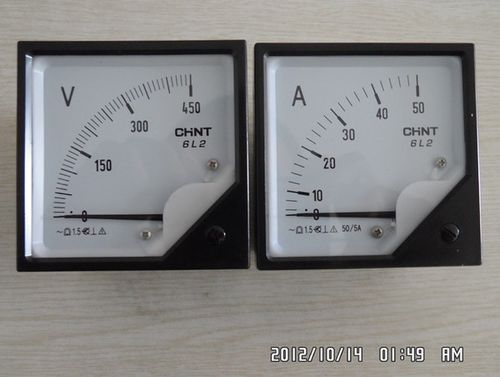pointer: (25, 54, 235, 256), (265, 53, 465, 259)
